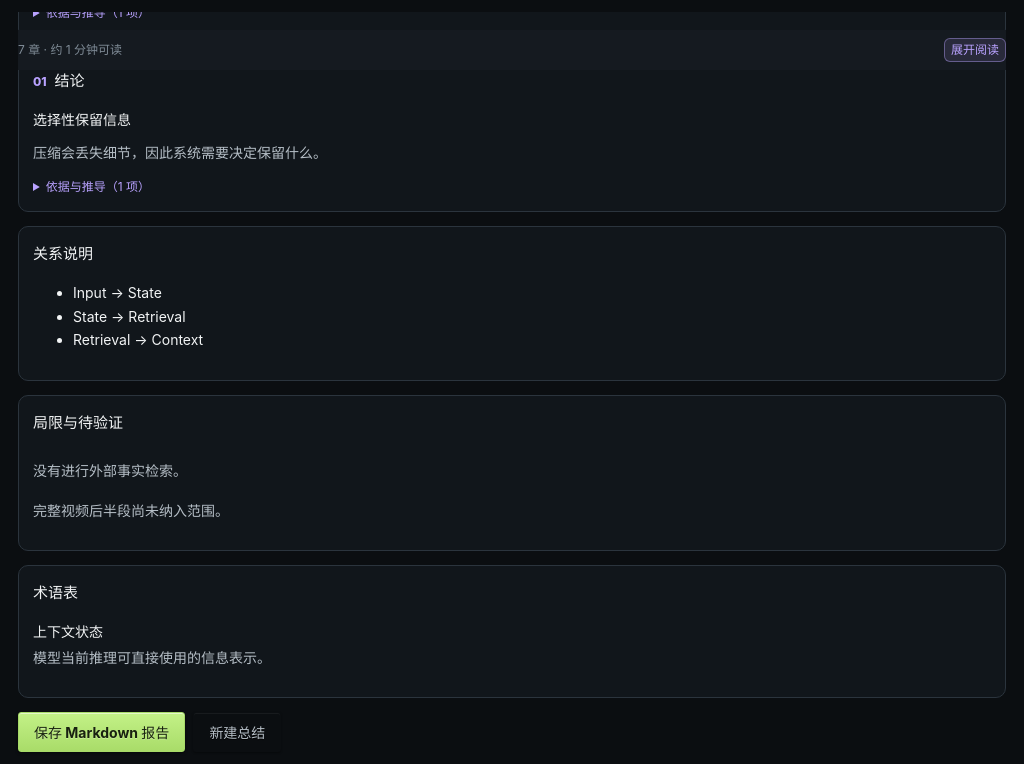
Test case: shows uncertain export status without success or automatic repeat export
(page scrolled)
Click the button "保存 Markdown 报告".
click(102, 732)  # box x1=18 y1=712 x2=185 y2=752
(page scrolled)
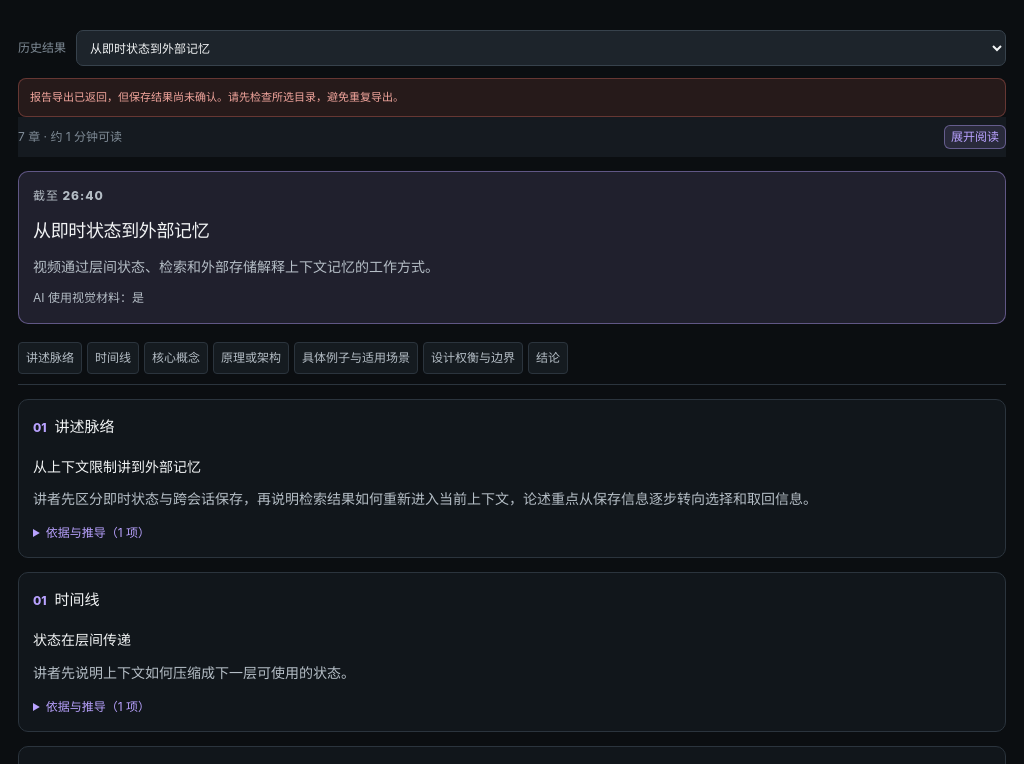
Expected: the text "报告导出已返回，但保存结果尚未确认。请先检查所选目录，避免重复导出。" is shown, x1=18 y1=78 x2=1006 y2=117
